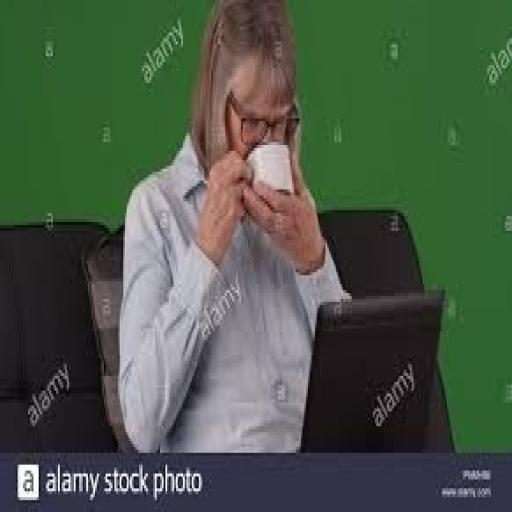using_laptop: (298, 287, 450, 453)
